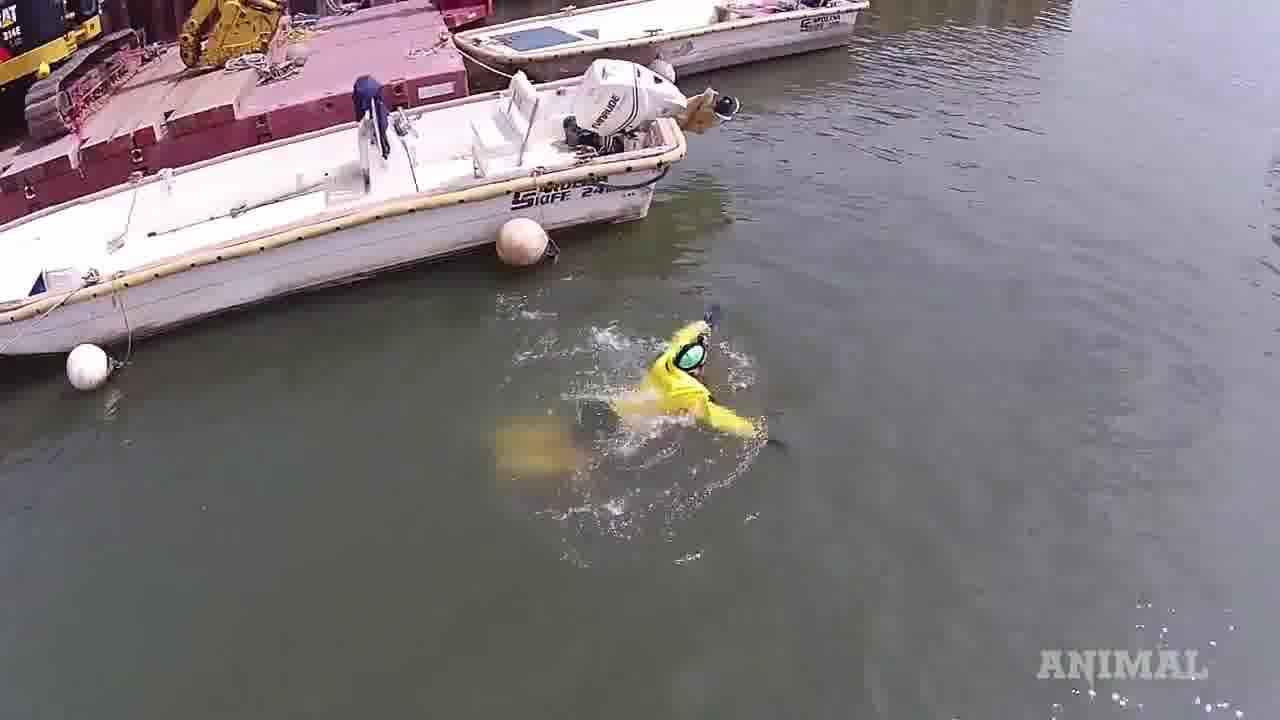human: (627, 319, 798, 430)
